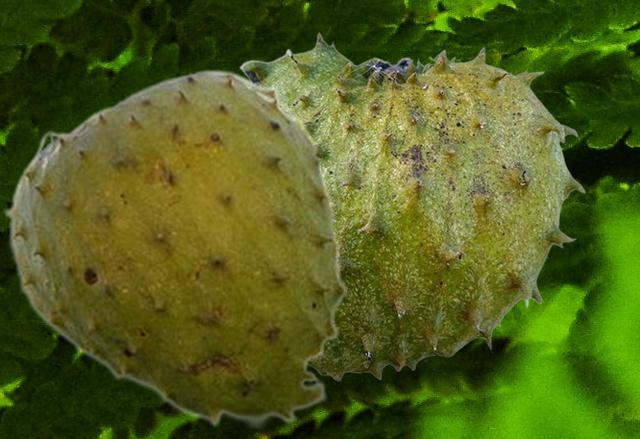guyabano: (2, 68, 348, 430), (237, 31, 585, 380)
